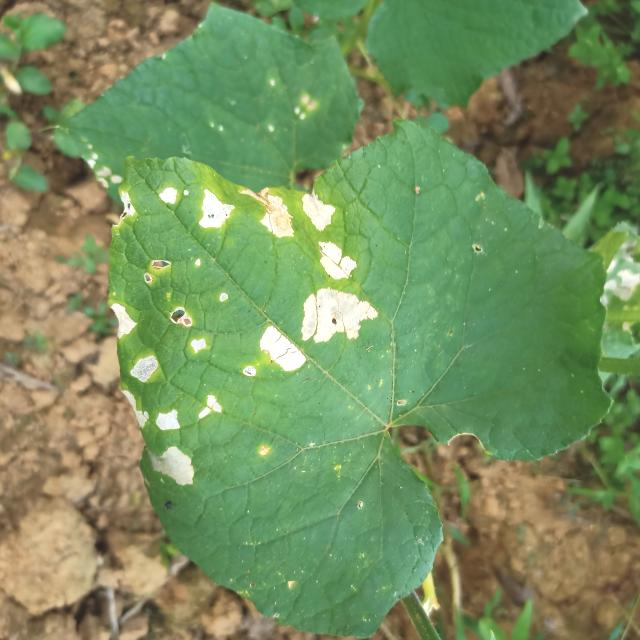disease_cucumber: (258, 288, 378, 370), (155, 394, 222, 486), (157, 182, 235, 230), (259, 190, 338, 237), (122, 347, 155, 429), (170, 303, 210, 354), (316, 235, 357, 280), (110, 301, 136, 340)
